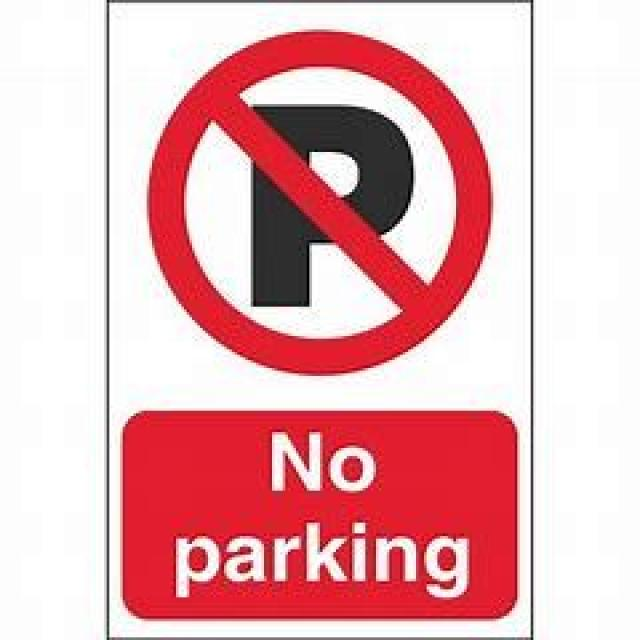do_not_enter: (144, 27, 493, 373)
